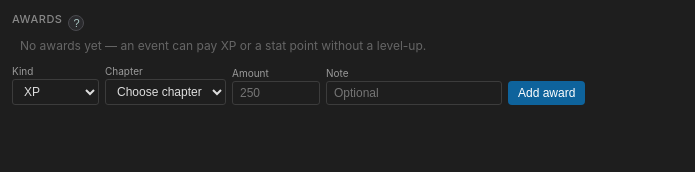
Test: the awards list › hands the form’s values over as typed and clears the amount after a save
This screenshot has width=695, height=172.
Step 1. Select "Stat point" in the dropdown named "Award kind" → (56, 92), box [12,79,99,105]
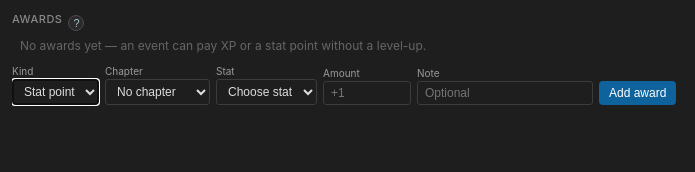
Step 2. Select "Chapter Two" in the dropdown named "Award chapter" → (158, 92), box [105,79,210,105]
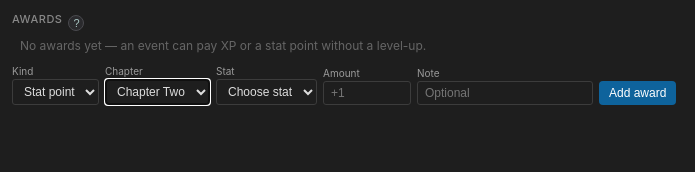
Step 3. Select "Insight" in the dropdown named "Award stat" → (266, 92), box [216,79,317,105]
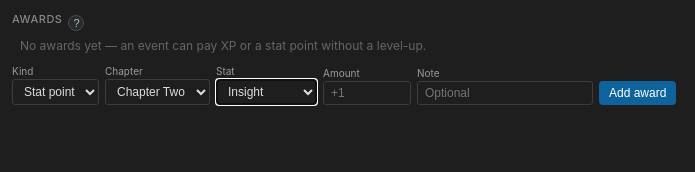
Step 4. Type "1" into the number field named "Award amount" → (367, 93), box [323,81,411,105]
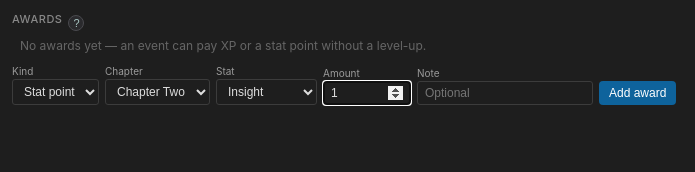
Step 5. Type "A hidden quest." into the field named "Award note" → (505, 93), box [417,81,593,105]
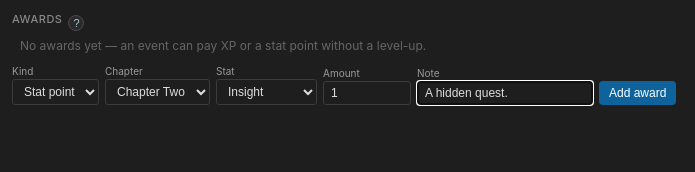
Step 6. Click the button "Add award" → (638, 93), box [599,81,676,105]
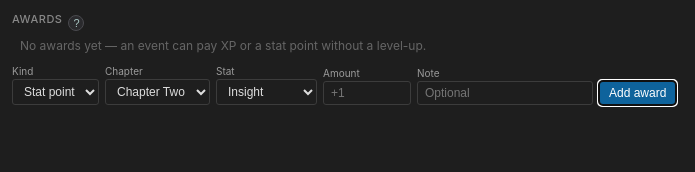
expect the number field named "Award amount" is not empty: met, box [323,81,411,105]
expect the field named "Award note" is empty: met, box [417,81,593,105]
